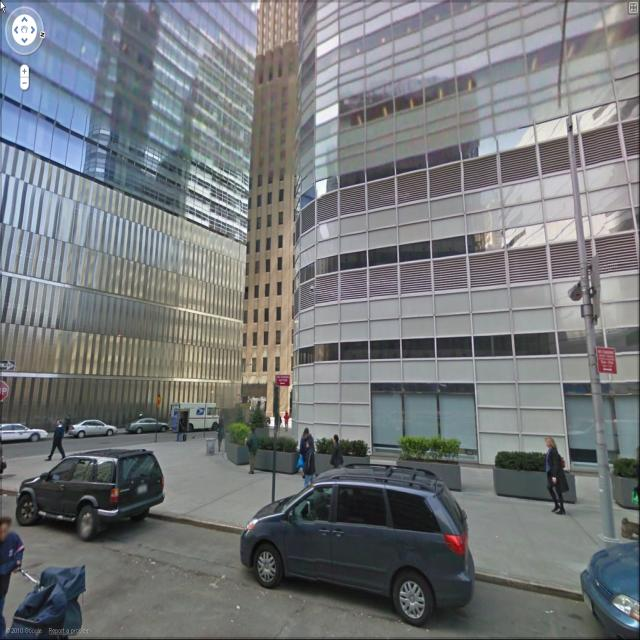b_1: (299, 1, 640, 444), (1, 4, 252, 413), (252, 2, 294, 434)
